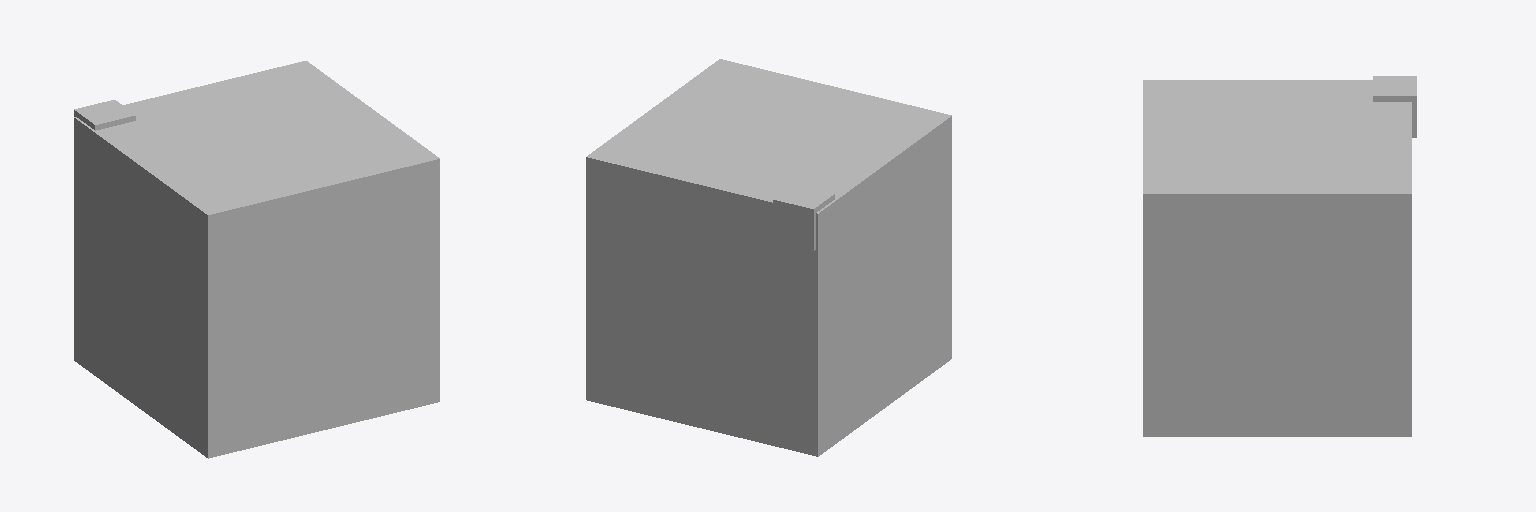
3 renders of one model, left to right at view 1: azimuth 30°, elevation 25°; view 2: azimuth 150°, elevation 25°; view 3: azimuth 270°, elevation 25°, orthographic.
Parts seen in each view (by area): view 1: BigCube, CubeCentrale_Cube.005; view 2: BigCube, CubeCentrale_Cube.005; view 3: BigCube, CubeCentrale_Cube.005.
Boxes of the visible parts, box(x1,y1,x2,y2) form: BigCube: box(74, 61, 439, 458); CubeCentrale_Cube.005: box(74, 100, 135, 130); BigCube: box(586, 59, 951, 456); CubeCentrale_Cube.005: box(773, 184, 834, 250); BigCube: box(1143, 80, 1411, 436); CubeCentrale_Cube.005: box(1373, 76, 1416, 137).
Size of the model in its own units: 1 by 1.02 by 1.02.